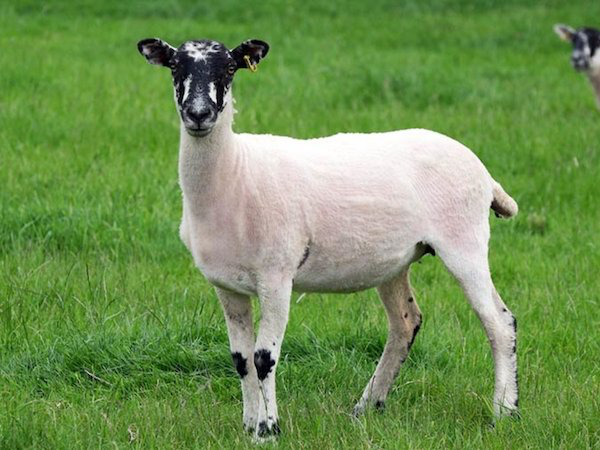koyun: (133, 32, 524, 425), (552, 19, 600, 84)
